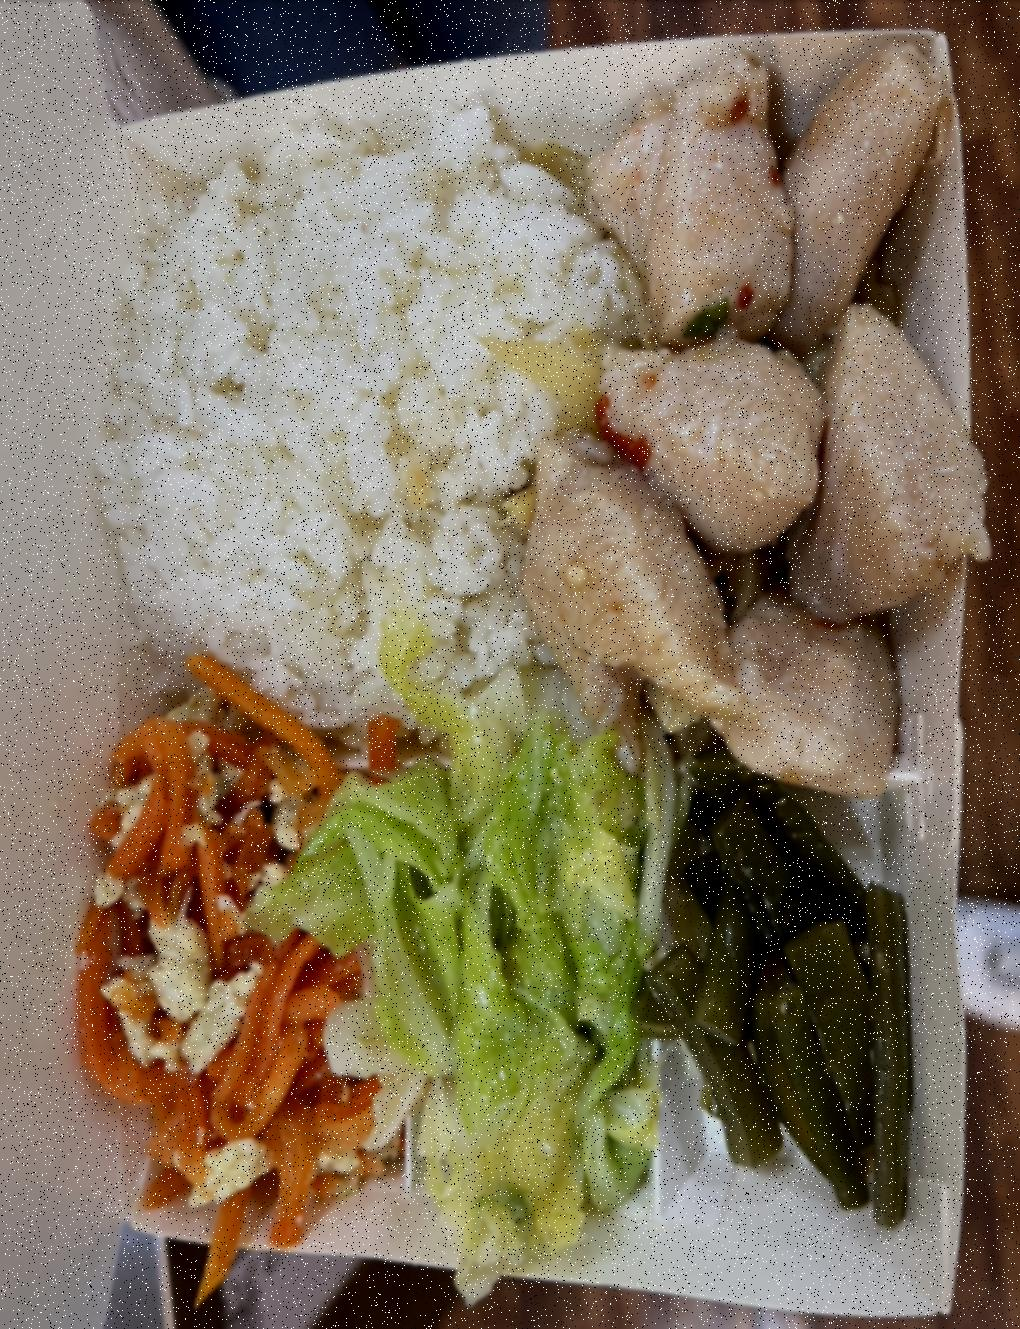big grilled chicken leg: (60, 4, 1000, 1329)
big herbal chicken leg: (90, 118, 634, 725)
braised fish fillet: (289, 680, 665, 1307), (90, 665, 357, 1253), (632, 727, 930, 1237)
braised pork: (515, 34, 977, 803)
